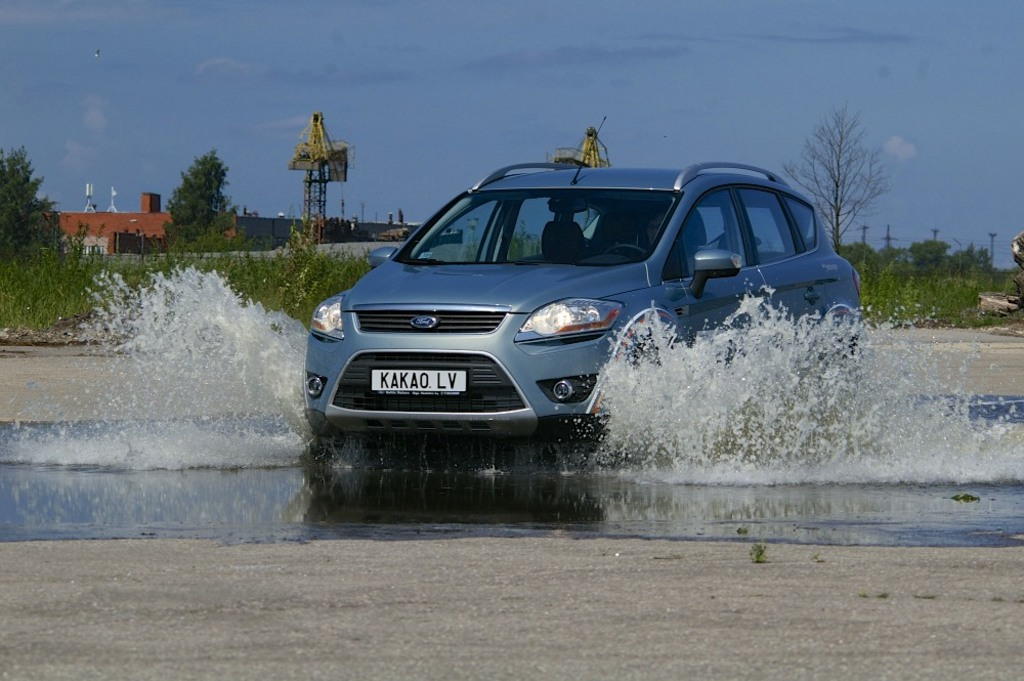Car: (294, 154, 863, 474)
